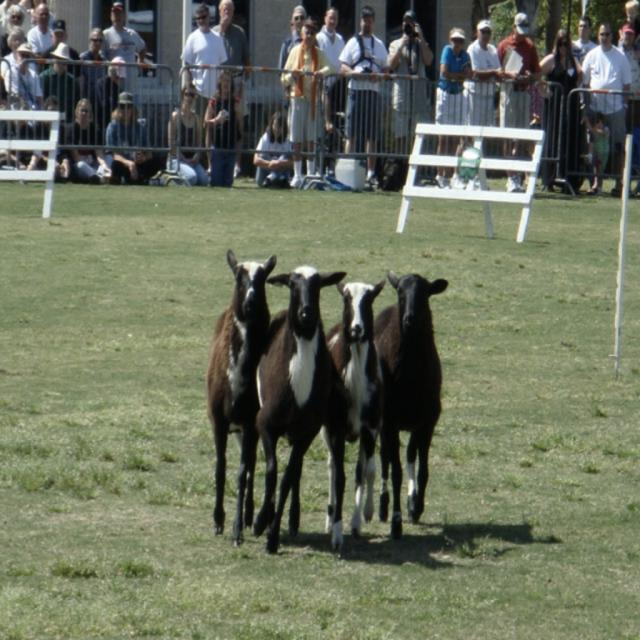Goat: (253, 265, 348, 554), (207, 247, 278, 546), (373, 268, 449, 539), (323, 275, 387, 552)
